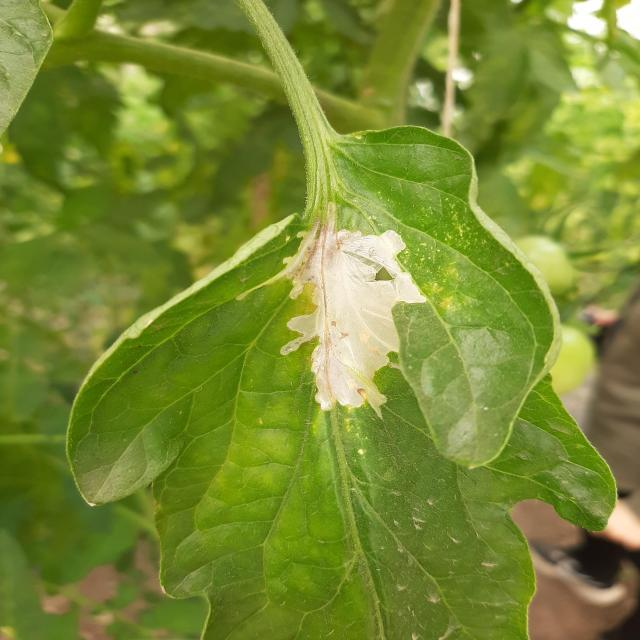Tuta absoluta: (272, 217, 432, 422)
